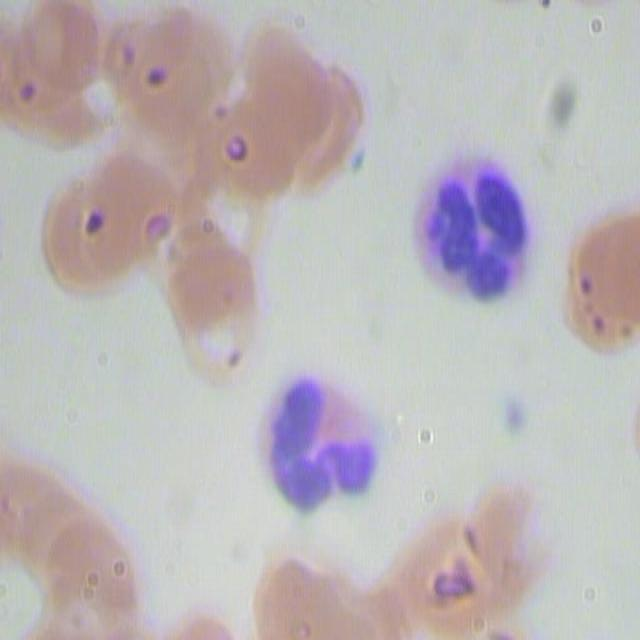RBC: (160, 189, 267, 388), (108, 0, 240, 136), (39, 157, 156, 307), (384, 502, 501, 637), (3, 0, 105, 150), (562, 182, 640, 352), (258, 554, 403, 640), (248, 32, 348, 154), (41, 517, 146, 629), (0, 468, 105, 565), (187, 103, 294, 197), (282, 64, 366, 137)
WBC: (406, 139, 541, 326), (274, 385, 383, 499)
platelets: (496, 390, 536, 449), (548, 82, 574, 126)
